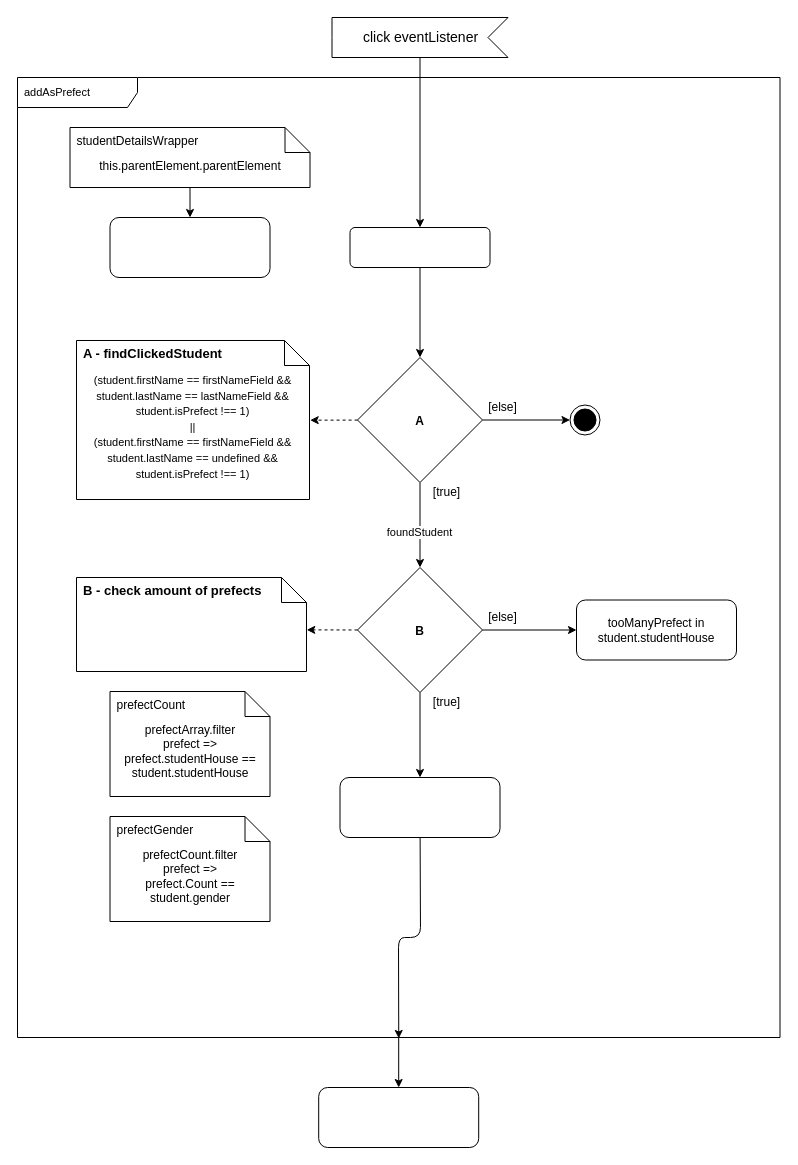
Some shapes in this 798 by 1165 pixel diagram are drawn without their labels. Here are the shapes that lost their labels. From the top down, the centre of each, then its label:
[189,247]: remove(showDetails)
[419,247]: studentArray.filter
[191,624]: prefectCount.length < "2" && prefectGender.length < "1"
[419,807]: student.isPrefect = 1 prefectArray.push(student)
[398,1117]: showStudents
